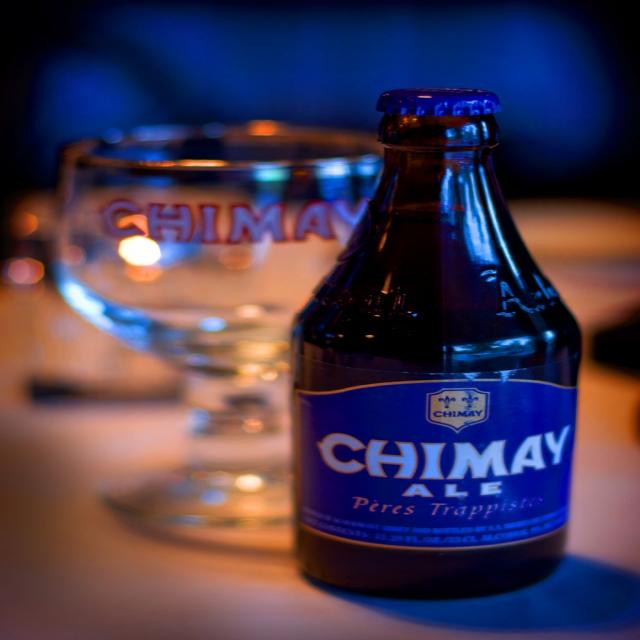chimay: (295, 382, 579, 552), (90, 192, 380, 251)
